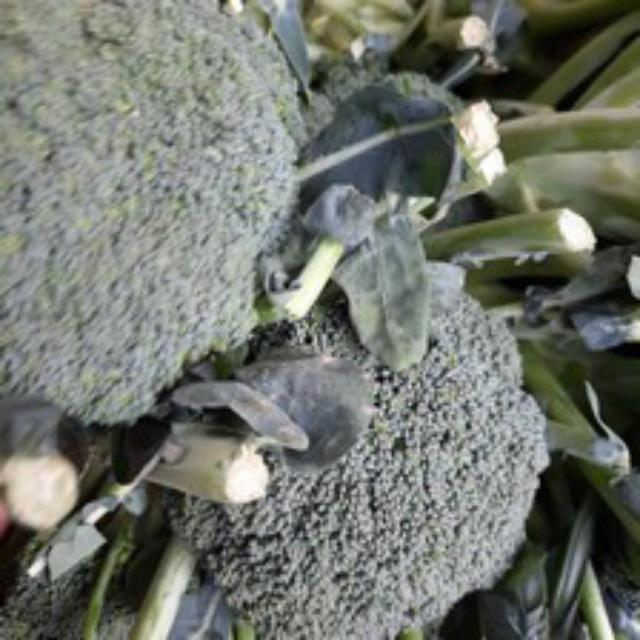broccoli: (0, 0, 304, 440)
